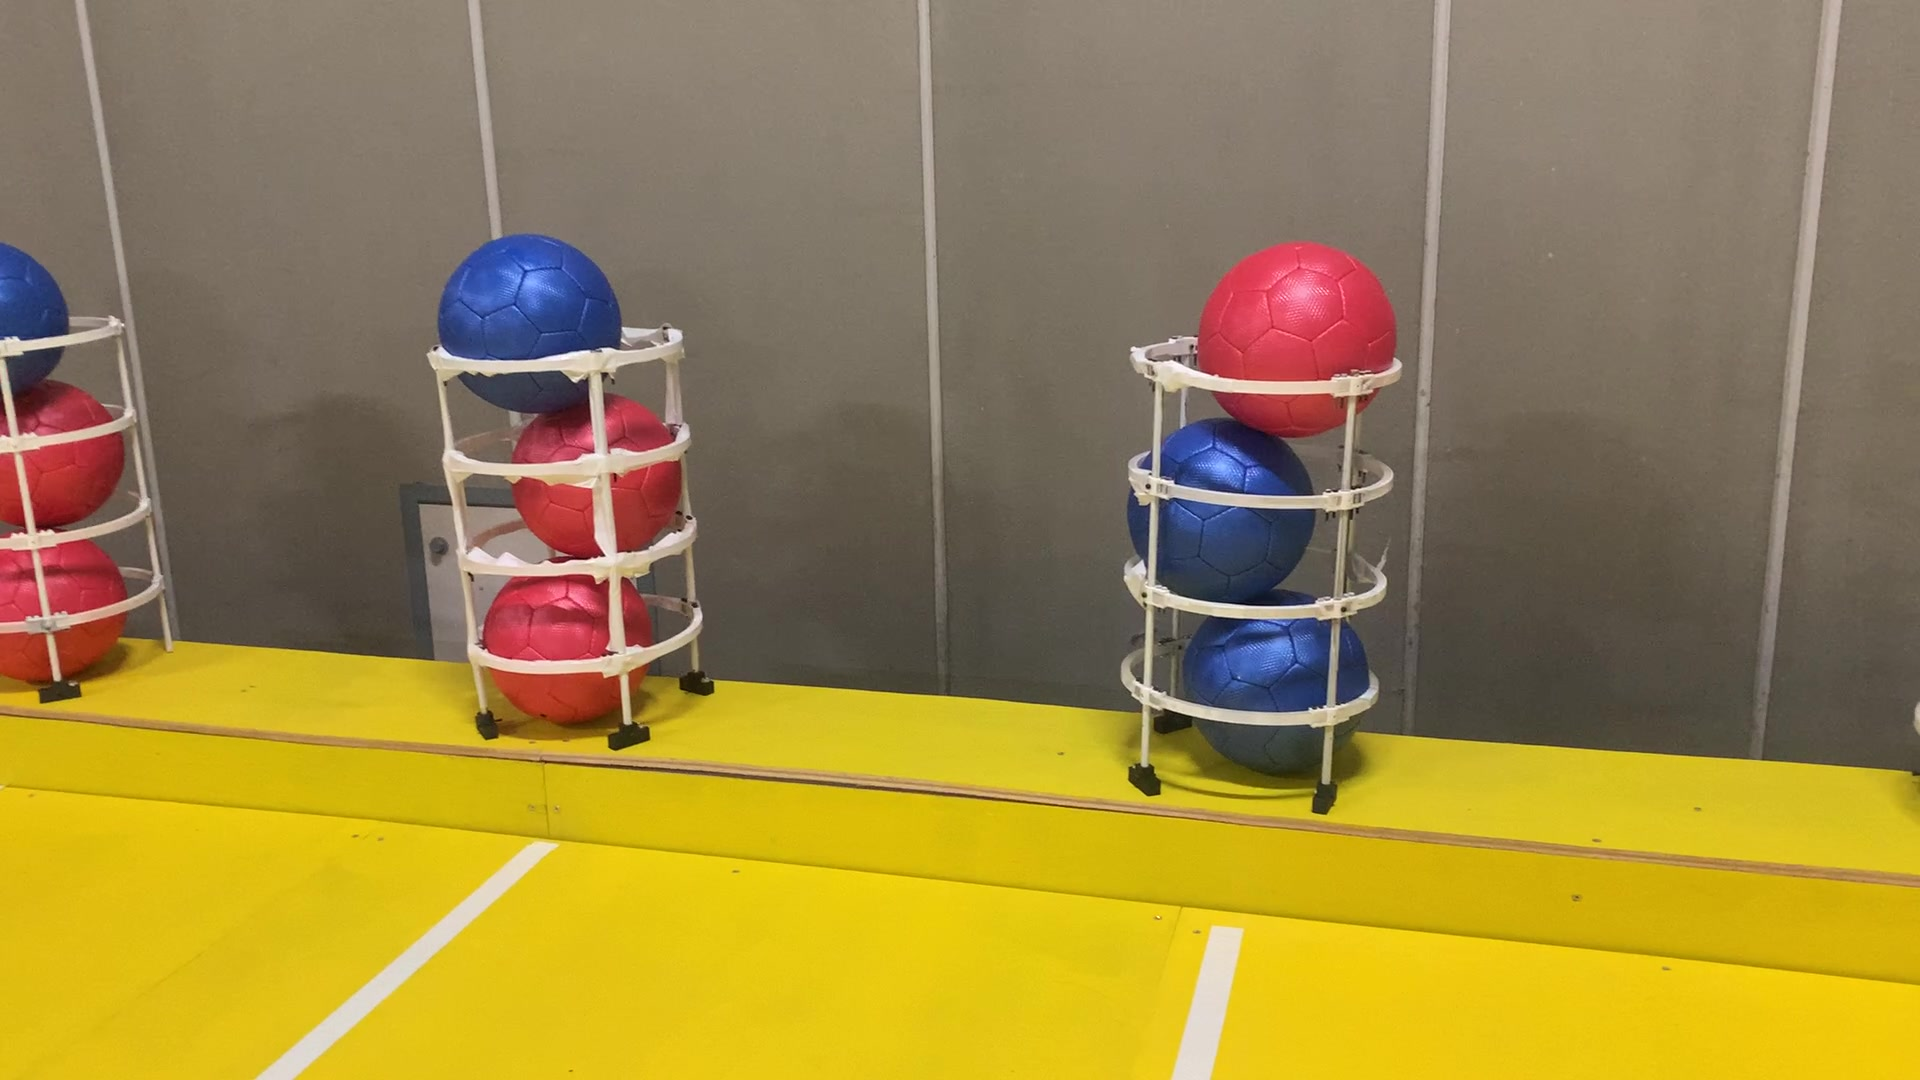blue: (430, 228, 634, 418), (1183, 589, 1371, 778), (1126, 418, 1324, 593), (0, 229, 69, 407)
red: (1201, 228, 1399, 434), (471, 567, 662, 724), (508, 389, 675, 559), (0, 512, 123, 702), (0, 364, 116, 549)
